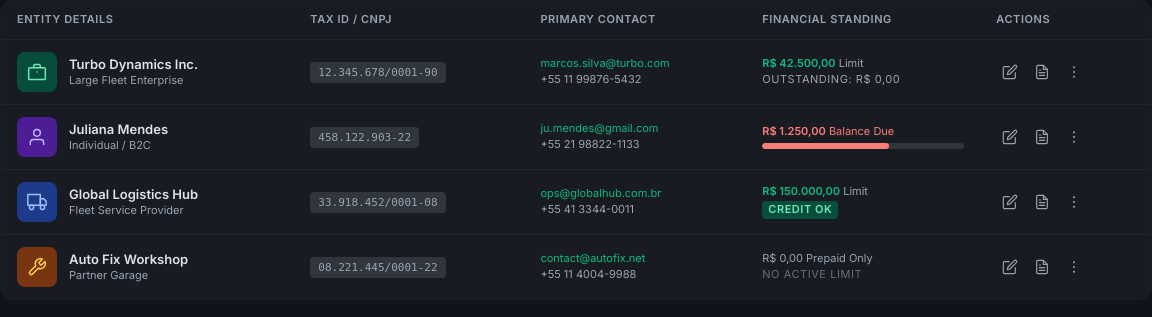
Scenario: EntityTable — 3.4 Coluna Actions › clicar no mesmo kebab novamente fecha o dropdown
Click the button named "mais opções" in the row of "Turbo Dynamics Inc.": (1074, 72) top-left (1060, 58), bottom-right (1088, 86)
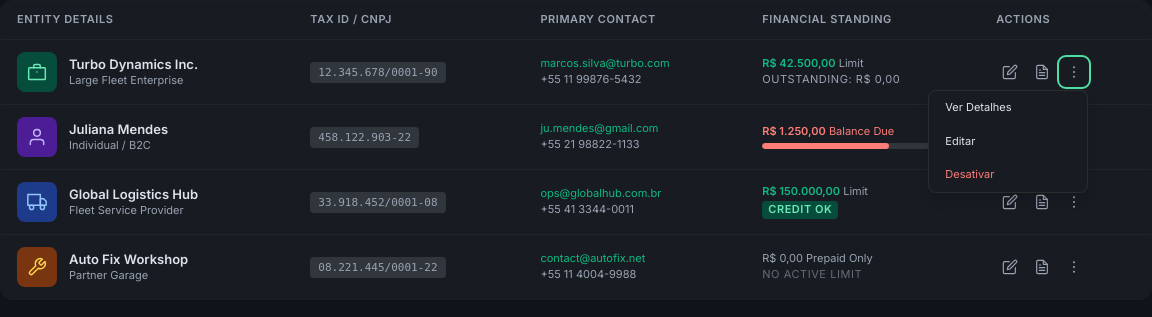
Now the menu is shown, box top-left (928, 90), bottom-right (1088, 193)
Click the button named "mais opções" in the row of "Turbo Dynamics Inc.": (1074, 72) top-left (1060, 58), bottom-right (1088, 86)
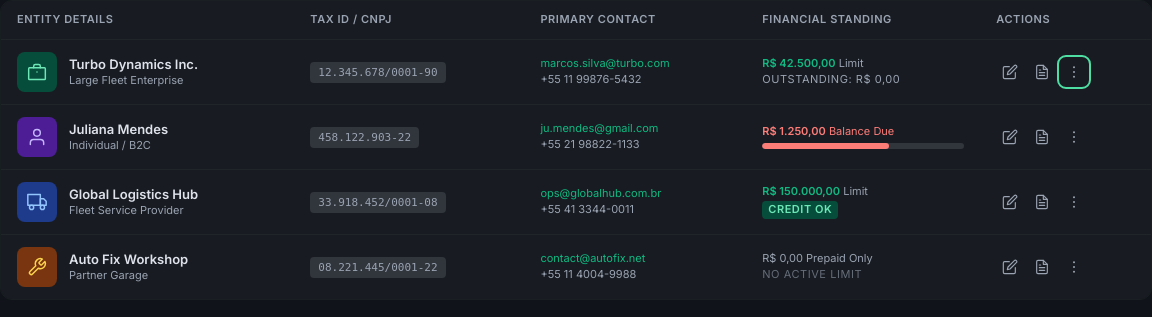
Now the menu is gone
